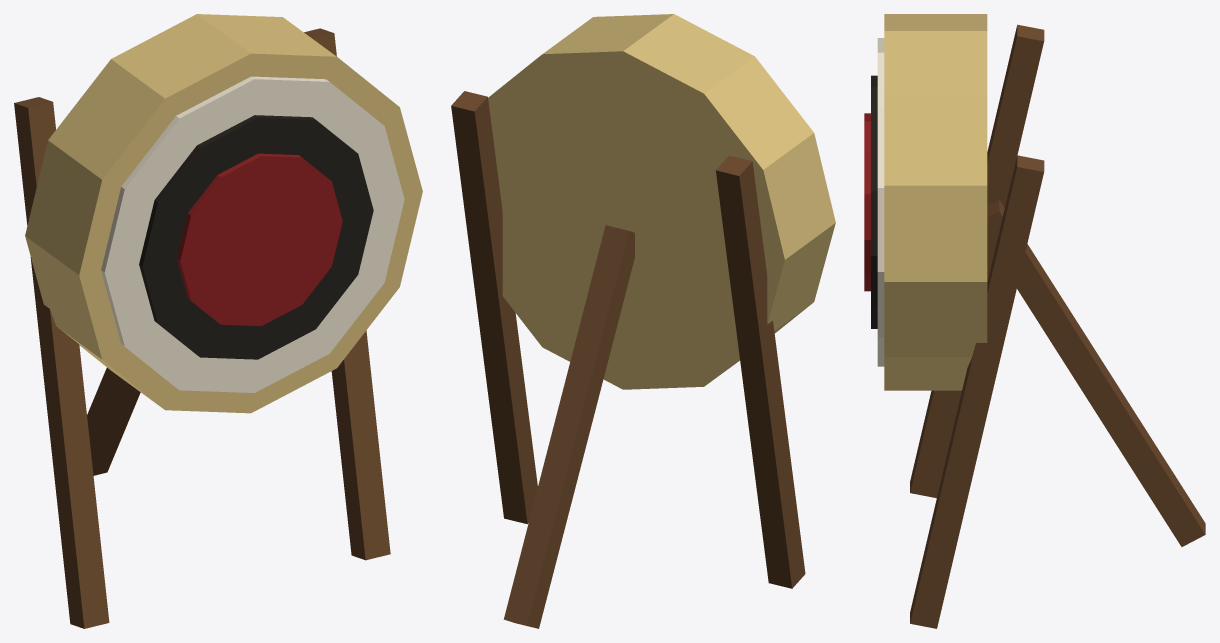
The model's file is archery_target.glb.
The picture shows the model from 3 angles, left to right: view 1: azimuth 30°, elevation 25°; view 2: azimuth 150°, elevation 25°; view 3: azimuth 270°, elevation 25°; orthographic projection. The views are drawn at different scales.
Visible parts, largest first — view 1: archery_target; view 2: archery_target; view 3: archery_target.
Part boxes in pixels (x1,y1,x2,y2): archery_target: (14,14,422,628); archery_target: (451,14,835,628); archery_target: (864,14,1205,628).
Size of the model in its own units: 1.1 by 1.69 by 0.9926.
